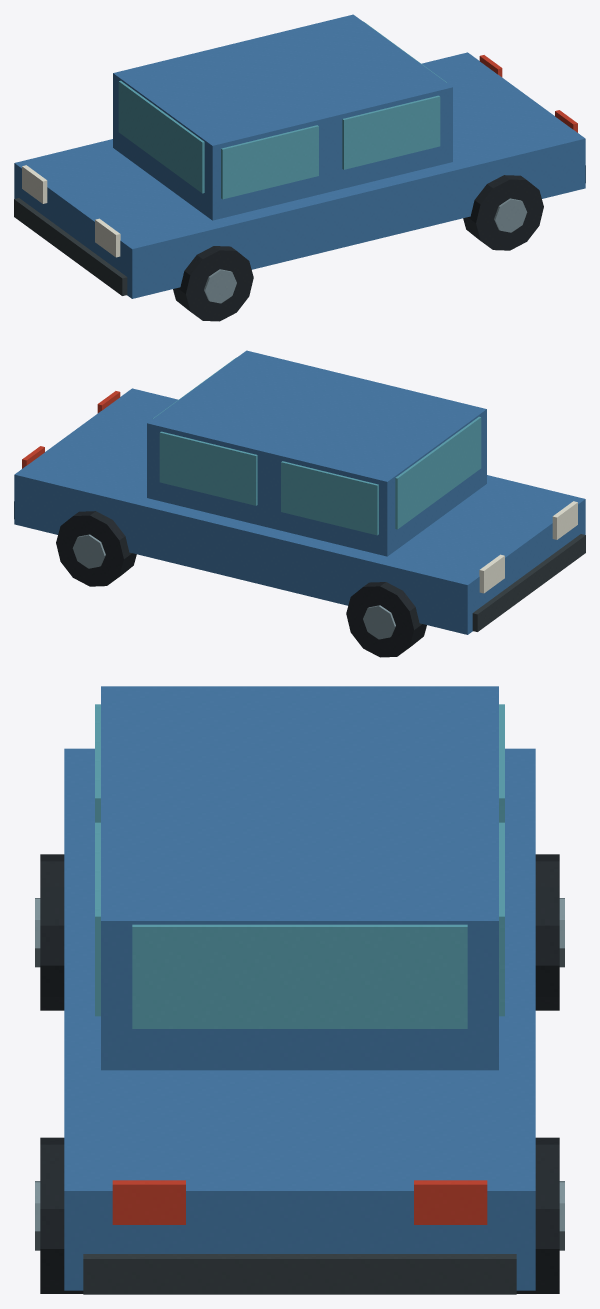
Rendered from car.glb.
3 renders of one model, top to bottom at view 1: azimuth 30°, elevation 25°; view 2: azimuth 150°, elevation 25°; view 3: azimuth 270°, elevation 25°, orthographic. The views are drawn at different scales.
Parts seen in each view (by area): view 1: Vehicle lower body 009, Passenger cabin 010, Passenger side glazing 012, Passenger side glazing 011, End cabin glazing 015, Polygon tyre 005, Polygon tyre 001, Bumper 021, Wheel hub 006, Wheel hub 002, Front headlight 017, Front headlight 019; view 2: Vehicle lower body 009, Passenger cabin 010, Passenger side glazing 014, Passenger side glazing 013, End cabin glazing 015, Polygon tyre 007, Polygon tyre 003, Bumper 021, Wheel hub 008, Wheel hub 004, Front headlight 019, Front headlight 017; view 3: Passenger cabin 010, Vehicle lower body 009, End cabin glazing 016, Bumper 022, Polygon tyre 005, Polygon tyre 007, Polygon tyre 001, Polygon tyre 003, Rear lamp 018, Rear lamp 020, Passenger side glazing 012, Passenger side glazing 014.
Boxes of the visible parts, bbox=[...] form: Vehicle lower body 009: bbox=[14, 52, 585, 298]; Passenger cabin 010: bbox=[113, 14, 452, 220]; Passenger side glazing 012: bbox=[342, 95, 440, 169]; Passenger side glazing 011: bbox=[221, 125, 318, 199]; End cabin glazing 015: bbox=[118, 80, 204, 193]; Polygon tyre 005: bbox=[463, 175, 543, 250]; Polygon tyre 001: bbox=[173, 246, 253, 321]; Bumper 021: bbox=[14, 198, 127, 295]; Wheel hub 006: bbox=[494, 198, 527, 232]; Wheel hub 002: bbox=[204, 269, 236, 303]; Front headlight 017: bbox=[95, 218, 120, 257]; Front headlight 019: bbox=[22, 165, 47, 203]; Vehicle lower body 009: bbox=[14, 388, 585, 634]; Passenger cabin 010: bbox=[147, 350, 486, 556]; Passenger side glazing 014: bbox=[159, 431, 257, 505]; Passenger side glazing 013: bbox=[281, 461, 378, 535]; End cabin glazing 015: bbox=[395, 416, 481, 529]; Polygon tyre 007: bbox=[56, 511, 136, 586]; Polygon tyre 003: bbox=[346, 582, 426, 657]; Bumper 021: bbox=[472, 534, 585, 631]; Wheel hub 008: bbox=[72, 534, 105, 568]; Wheel hub 004: bbox=[363, 605, 395, 639]; Front headlight 019: bbox=[479, 554, 504, 593]; Front headlight 017: bbox=[552, 501, 577, 539]; Passenger cabin 010: bbox=[101, 686, 498, 1070]; Vehicle lower body 009: bbox=[64, 748, 535, 1290]; End cabin glazing 016: bbox=[132, 924, 467, 1028]; Bumper 022: bbox=[83, 1254, 516, 1294]; Polygon tyre 005: bbox=[40, 1137, 83, 1293]; Polygon tyre 007: bbox=[516, 1137, 559, 1293]; Polygon tyre 001: bbox=[40, 854, 64, 1010]; Polygon tyre 003: bbox=[535, 854, 559, 1010]; Rear lamp 018: bbox=[112, 1180, 185, 1224]; Rear lamp 020: bbox=[414, 1180, 487, 1224]; Passenger side glazing 012: bbox=[95, 822, 100, 1016]; Passenger side glazing 014: bbox=[499, 822, 504, 1016].
Bounding box in the file's own units: 4.09 × 1.37 × 2.02.
Materials: 7 (7 with a texture image).
